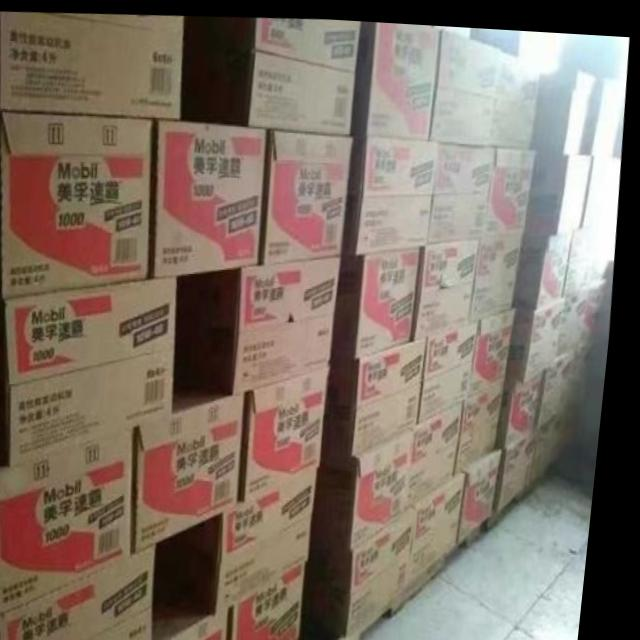box: (10, 272, 181, 466), (4, 113, 154, 299), (0, 427, 143, 618), (183, 461, 328, 610), (198, 255, 346, 391), (197, 13, 360, 129), (0, 13, 184, 115), (144, 383, 251, 551), (156, 119, 269, 274), (10, 541, 167, 640), (318, 502, 423, 629), (331, 333, 433, 455), (265, 128, 357, 260), (323, 423, 425, 540), (250, 364, 337, 498), (349, 134, 440, 250), (354, 17, 439, 135), (340, 243, 425, 353), (435, 25, 504, 134), (432, 137, 498, 236), (420, 467, 475, 577), (420, 235, 483, 331), (427, 313, 485, 417), (242, 560, 317, 640), (534, 60, 598, 147), (530, 145, 594, 227), (421, 397, 471, 500), (545, 335, 601, 423), (487, 143, 539, 230), (494, 46, 541, 140), (516, 294, 569, 377), (467, 373, 513, 468), (476, 228, 526, 315), (520, 226, 576, 302), (166, 586, 242, 640), (476, 302, 521, 393), (544, 393, 589, 481), (471, 443, 511, 536), (506, 363, 551, 440), (504, 426, 545, 506), (585, 71, 626, 147), (564, 282, 594, 352), (571, 227, 594, 290), (589, 274, 611, 337)
